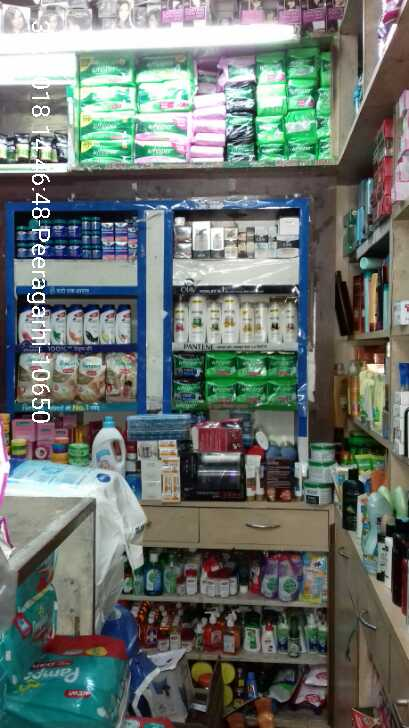vicks: (13, 211, 143, 263)
